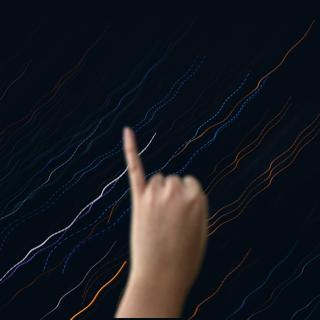Fine: (114, 124, 212, 307)
